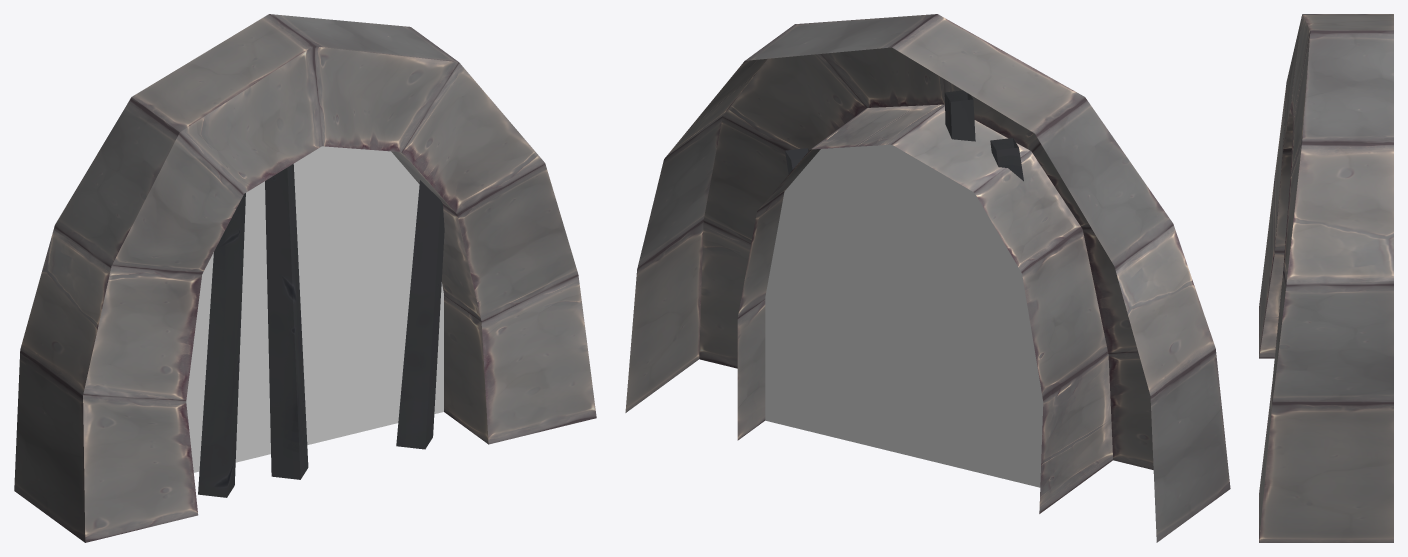
The model's file is SM_BLD_window_v09_03.fbx.
The picture shows the model from 3 angles, left to right: view 1: azimuth 30°, elevation 25°; view 2: azimuth 150°, elevation 25°; view 3: azimuth 270°, elevation 25°; orthographic projection. The views are drawn at different scales.
Parts seen in each view (by area): view 1: SM_BLD_window_v09_03; view 2: SM_BLD_window_v09_03; view 3: SM_BLD_window_v09_03.
Part boxes in pixels (x1,y1,x2,y2): SM_BLD_window_v09_03: (14, 14, 596, 542); SM_BLD_window_v09_03: (625, 14, 1230, 542); SM_BLD_window_v09_03: (1259, 14, 1393, 542).
Size of the model in its own units: 125 by 97.01 by 30.07.
